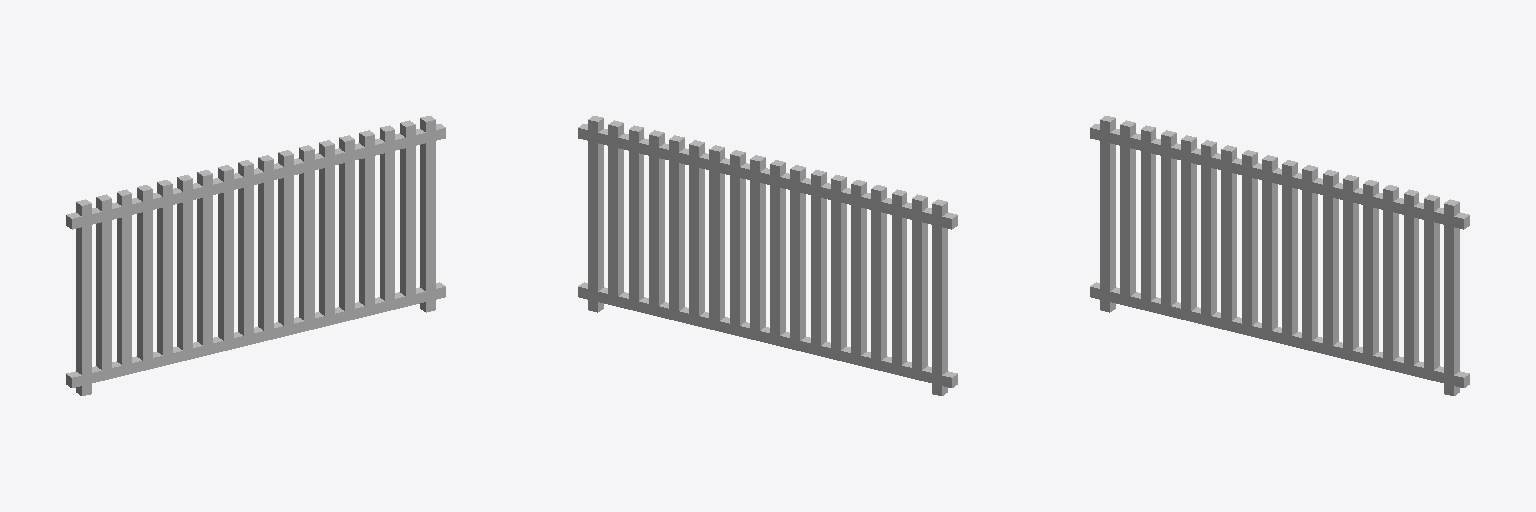
File: cerca.obj
3 renders of one model, left to right at view 1: azimuth 30°, elevation 25°; view 2: azimuth 150°, elevation 25°; view 3: azimuth 330°, elevation 25°, orthographic.
Parts seen in each view (by area): view 1: object 1; view 2: object 1; view 3: object 1.
Boxes of the visible parts, <box> form: object 1: <box>66,116,445,395</box>; object 1: <box>578,116,957,395</box>; object 1: <box>1090,116,1469,395</box>.
Size of the model in its own units: 3.7 by 1.8 by 0.1.